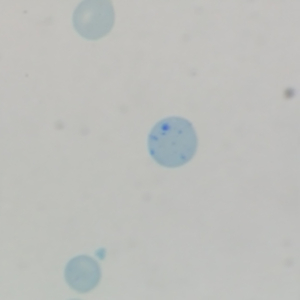aggregate reticulocyte: (146, 115, 200, 169)
erythrocyte: (70, 1, 118, 42), (62, 252, 104, 295)
